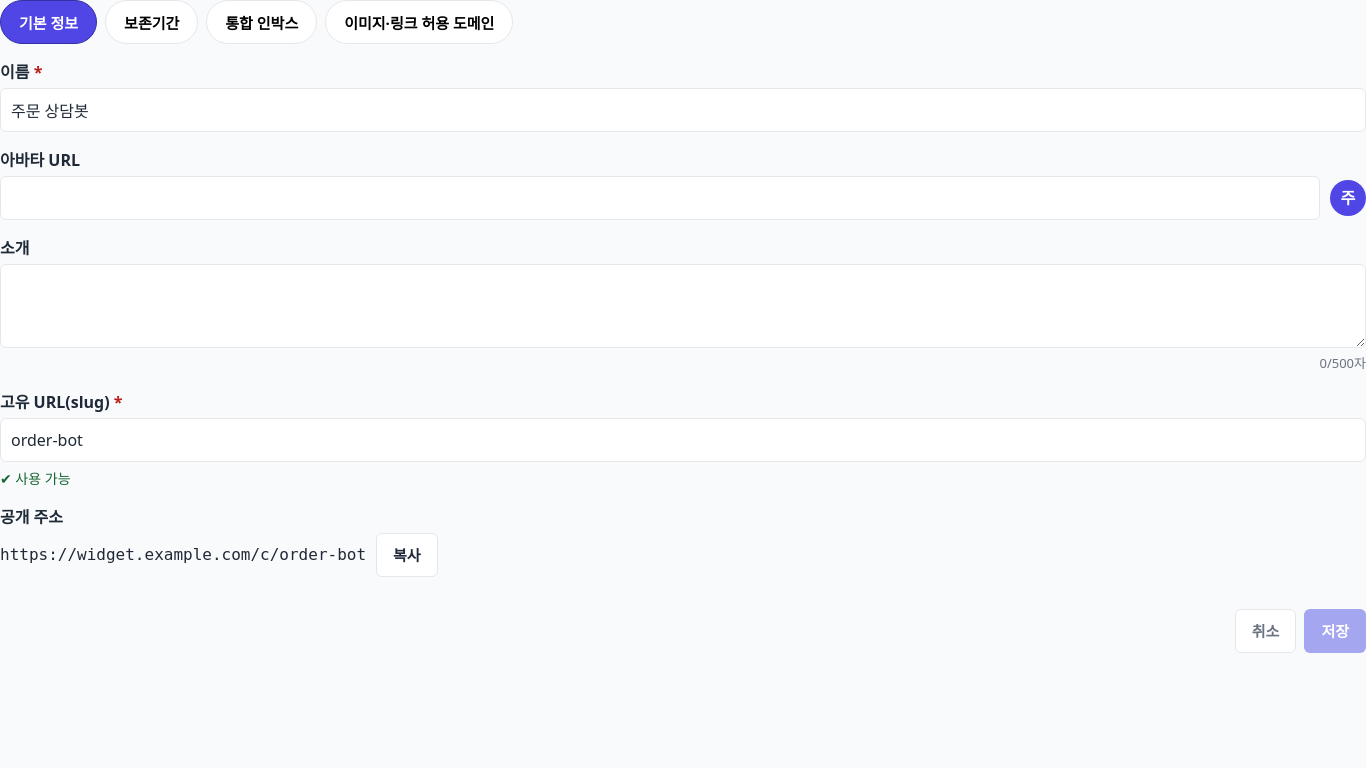
Scenario: SettingsTab — slug 변경 경고 모달 (AC-3-7) › 경고 모달에서 "변경 후 저장"을 확인하면 그제서야 PATCH가 전송되고 저장 완료 토스트가 뜬다
Replace the text in the field labelled "고유 URL(slug) *" with "order-bot-v2" at (683, 440), box [0,418,1365,462]
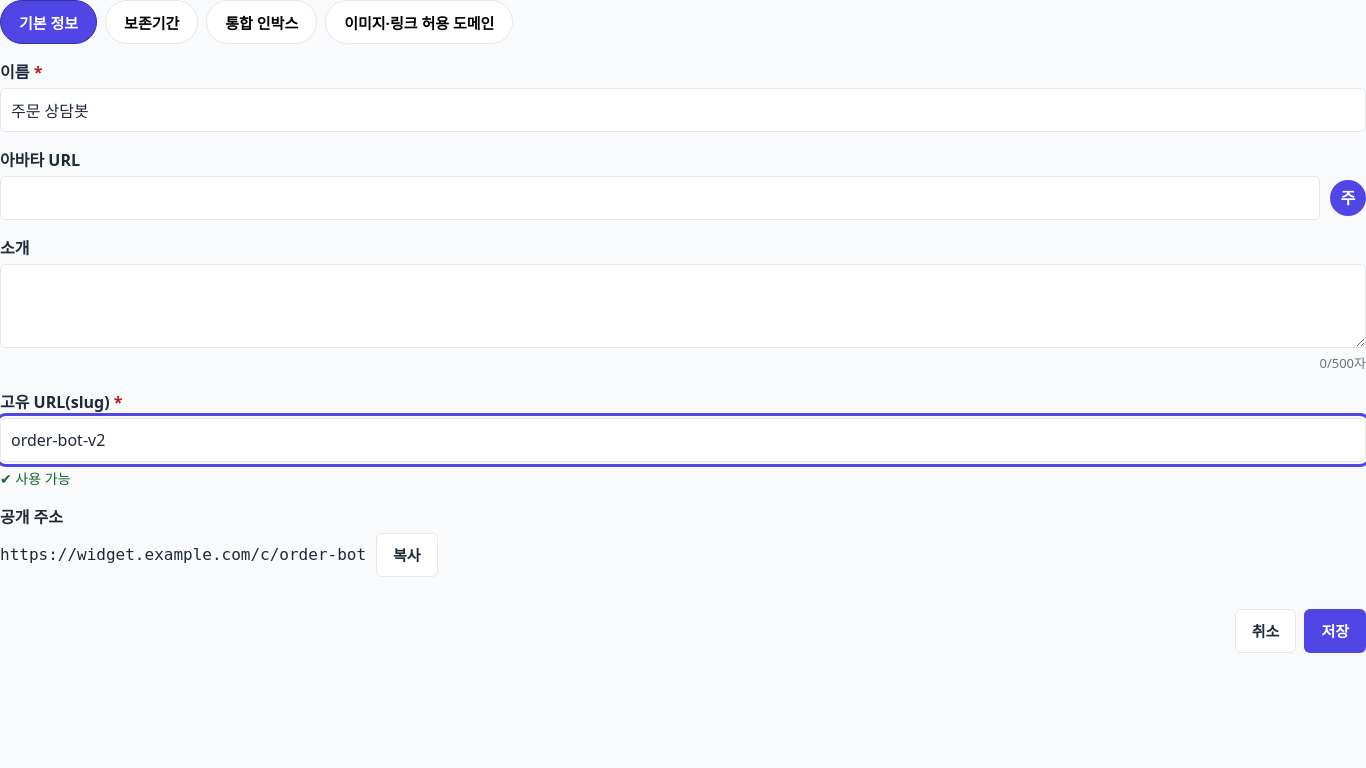
Click the button "저장".
click(1335, 630)  # box [1304,608,1365,652]
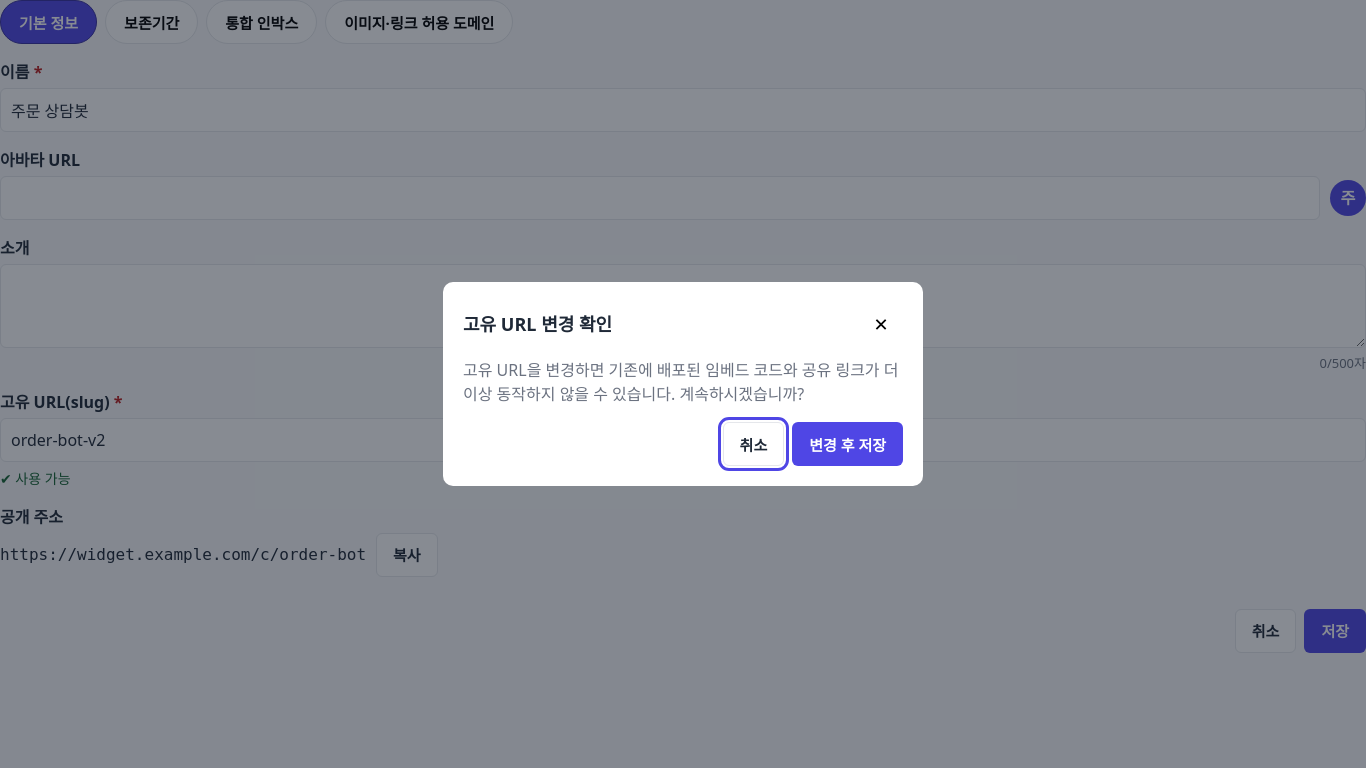
Expected: the dialog "고유 URL 변경 확인" is shown, [443,282,923,486]
Click the button "변경 후 저장".
click(848, 444)  # box [792,422,903,466]
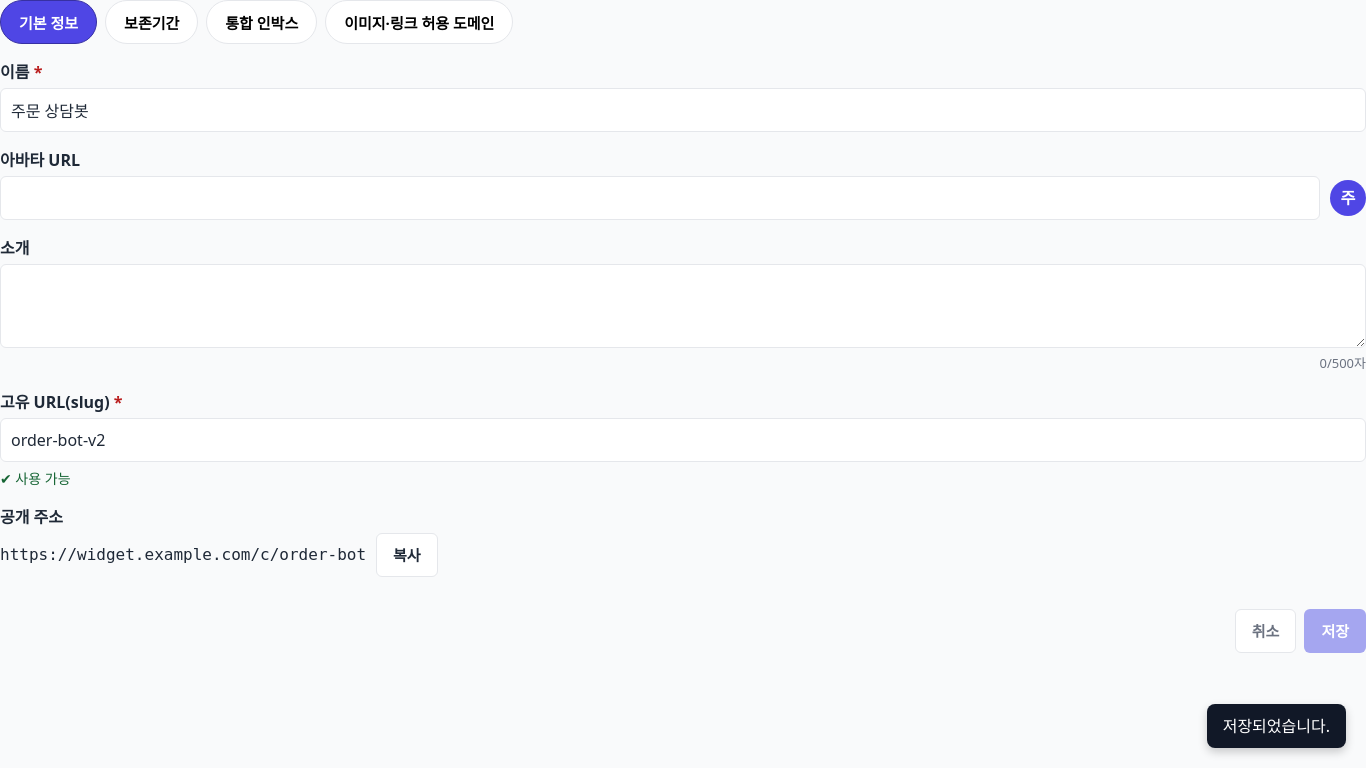
Expected: the text "저장되었습니다." is shown, [1207,704,1346,748]
